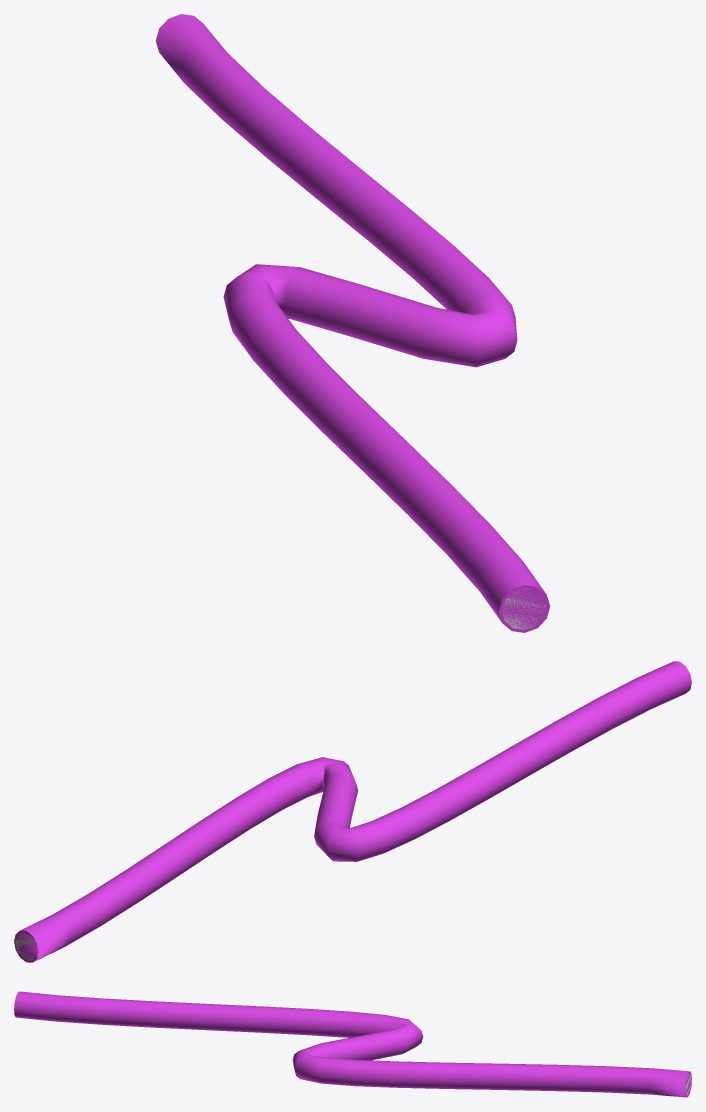
Rendered from route1.glb.
3 views of the same model, one above another, from view 1: azimuth 30°, elevation 25°; view 2: azimuth 150°, elevation 25°; view 3: azimuth 270°, elevation 25° (orthographic). The views are drawn at different scales.
Parts seen in each view (by area): view 1: BézierCurve; view 2: BézierCurve; view 3: BézierCurve.
Part boxes in pixels (x1=…): BézierCurve: x1=156, y1=14, x2=550, y2=632; BézierCurve: x1=14, y1=661, x2=691, y2=962; BézierCurve: x1=14, y1=991, x2=691, y2=1097.
Bounding box in the file's own units: 649 × 80 × 2050.
